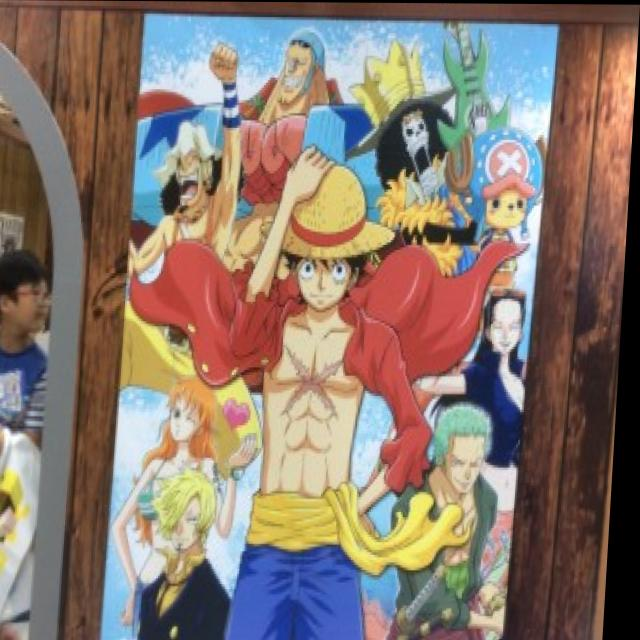Blook: (371, 81, 457, 197)
Chyopa: (440, 124, 553, 278)
Franky: (268, 27, 335, 113)
Luffy: (259, 166, 387, 319)
Nami: (165, 374, 226, 458)
NicoRobin: (475, 283, 531, 382)
Sangdi: (148, 461, 235, 565)
Usopp: (160, 113, 227, 230)
Zoro: (429, 405, 509, 501)
